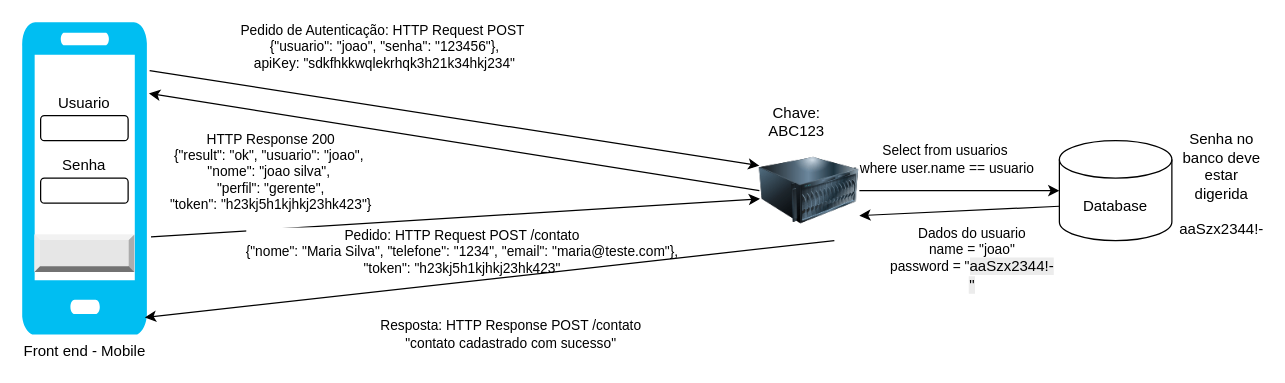
Image size: 1285x383. Some labels were removed from this diagram. Each missing label, with the centre of its shape:
"Backend Server" goes at point 809,190.
"Login" goes at point 84,252.
